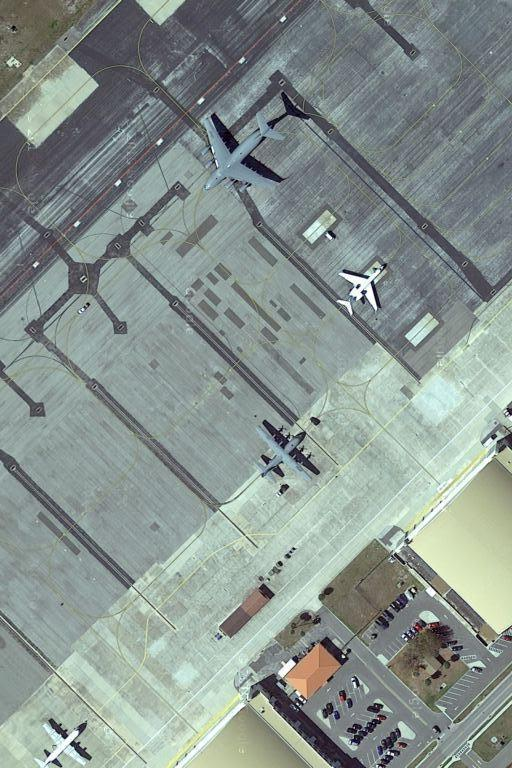C-130: (248, 422, 320, 486)
C-17: (193, 104, 291, 202)
P-3C: (33, 719, 92, 766)
plane: (331, 264, 392, 319)
